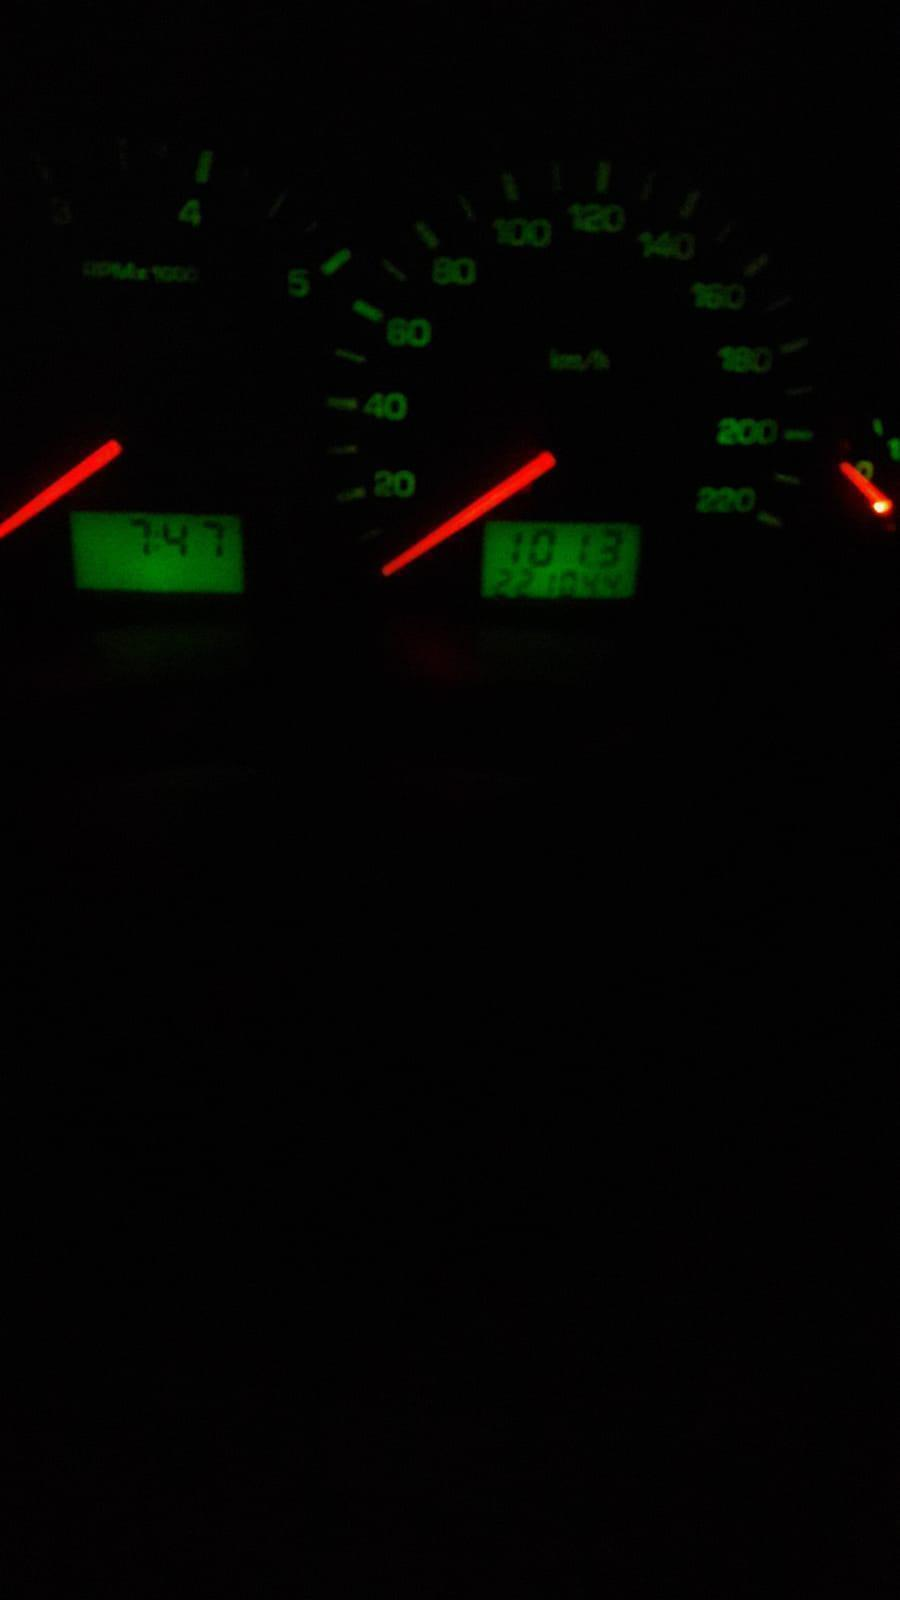0: (527, 525, 555, 565), (559, 568, 580, 598)
1: (575, 531, 592, 565), (509, 529, 523, 566), (544, 571, 558, 598)
2: (492, 566, 512, 598), (514, 568, 533, 599)
3: (596, 526, 623, 568)
4: (602, 573, 624, 596), (582, 573, 598, 598)
odometer: (477, 516, 644, 604)
